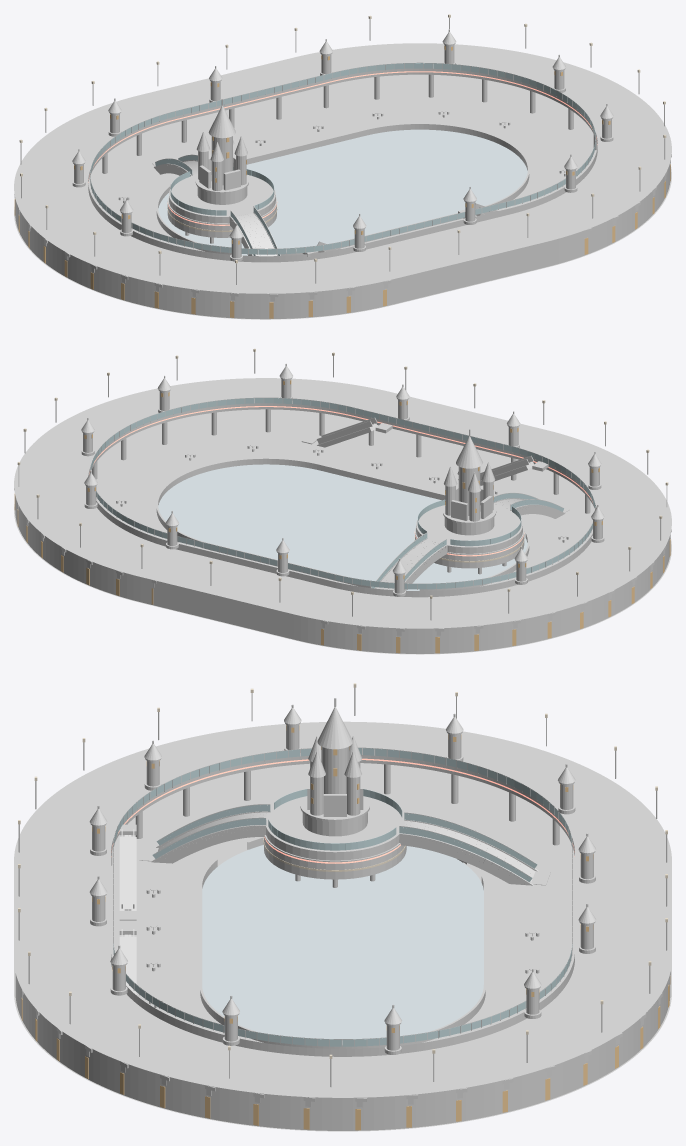
The model's file is LotteWorld_Rink.fbx.
The picture shows the model from 3 angles, top to bottom: view 1: azimuth 30°, elevation 25°; view 2: azimuth 150°, elevation 25°; view 3: azimuth 270°, elevation 25°; orthographic projection. The views are drawn at different scales.
Visible parts, largest first — view 1: Rink_Ceiling, Rink_LowerFloor, Rink_Ice, Rink_ShopFronts, Rink_BalconyEdge, Rink_Railing, Rink_Island, Rink_IslandCastle, Rink_Boards, Rink_Columns, Rink_Bridge_Front, Rink_Bridge_Back; view 2: Rink_Ceiling, Rink_LowerFloor, Rink_Ice, Rink_ShopFronts, Rink_Railing, Rink_BalconyEdge, Rink_Island, Rink_IslandCastle, Rink_Boards, Rink_Bridge_Back, Rink_Columns, Rink_Bridge_Front (+2 smaller); view 3: Rink_Ceiling, Rink_Ice, Rink_LowerFloor, Rink_ShopFronts, Rink_Island, Rink_Railing, Rink_BalconyEdge, Rink_IslandCastle, Rink_Bridge_Back, Rink_Bridge_Front, Rink_Boards, Rink_Columns (+9 smaller).
Part boxes in pixels (bbox=[...]): Rink_Ceiling: bbox=[14, 43, 671, 293]; Rink_LowerFloor: bbox=[14, 74, 671, 319]; Rink_Ice: bbox=[158, 129, 527, 255]; Rink_ShopFronts: bbox=[14, 44, 671, 319]; Rink_BalconyEdge: bbox=[88, 68, 597, 262]; Rink_Railing: bbox=[90, 62, 595, 255]; Rink_Island: bbox=[167, 167, 277, 243]; Rink_IslandCastle: bbox=[195, 98, 248, 204]; Rink_Boards: bbox=[156, 123, 529, 255]; Rink_Columns: bbox=[75, 74, 610, 267]; Rink_Bridge_Front: bbox=[229, 206, 280, 256]; Rink_Bridge_Back: bbox=[152, 154, 197, 176]; Rink_Ceiling: bbox=[14, 378, 671, 628]; Rink_LowerFloor: bbox=[14, 409, 671, 654]; Rink_Ice: bbox=[158, 464, 527, 590]; Rink_ShopFronts: bbox=[14, 379, 671, 653]; Rink_Railing: bbox=[90, 397, 595, 589]; Rink_BalconyEdge: bbox=[88, 403, 596, 597]; Rink_Island: bbox=[414, 499, 524, 574]; Rink_IslandCastle: bbox=[443, 429, 496, 535]; Rink_Boards: bbox=[156, 458, 529, 590]; Rink_Bridge_Back: bbox=[371, 532, 447, 590]; Rink_Columns: bbox=[77, 409, 608, 602]; Rink_Bridge_Front: bbox=[493, 492, 569, 518]; Rink_Ceiling: bbox=[14, 721, 671, 1097]; Rink_Ice: bbox=[202, 845, 483, 1043]; Rink_LowerFloor: bbox=[14, 763, 671, 1131]; Rink_ShopFronts: bbox=[15, 723, 670, 1130]; Rink_Island: bbox=[263, 789, 406, 887]; Rink_Railing: bbox=[113, 747, 572, 1047]; Rink_BalconyEdge: bbox=[111, 755, 574, 1056]; Rink_IslandCastle: bbox=[300, 698, 369, 836]; Rink_Bridge_Back: bbox=[399, 812, 550, 885]; Rink_Bridge_Front: bbox=[139, 804, 270, 863]; Rink_Boards: bbox=[200, 837, 485, 1048]; Rink_Columns: bbox=[94, 764, 591, 1063].
Size of the model in its own units: 115 by 25.2 by 84.8.
